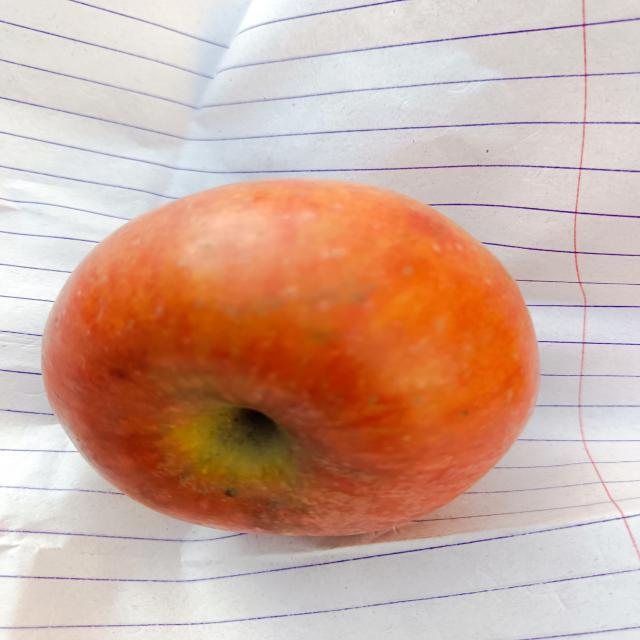Fresh Apple: (37, 177, 540, 546)
